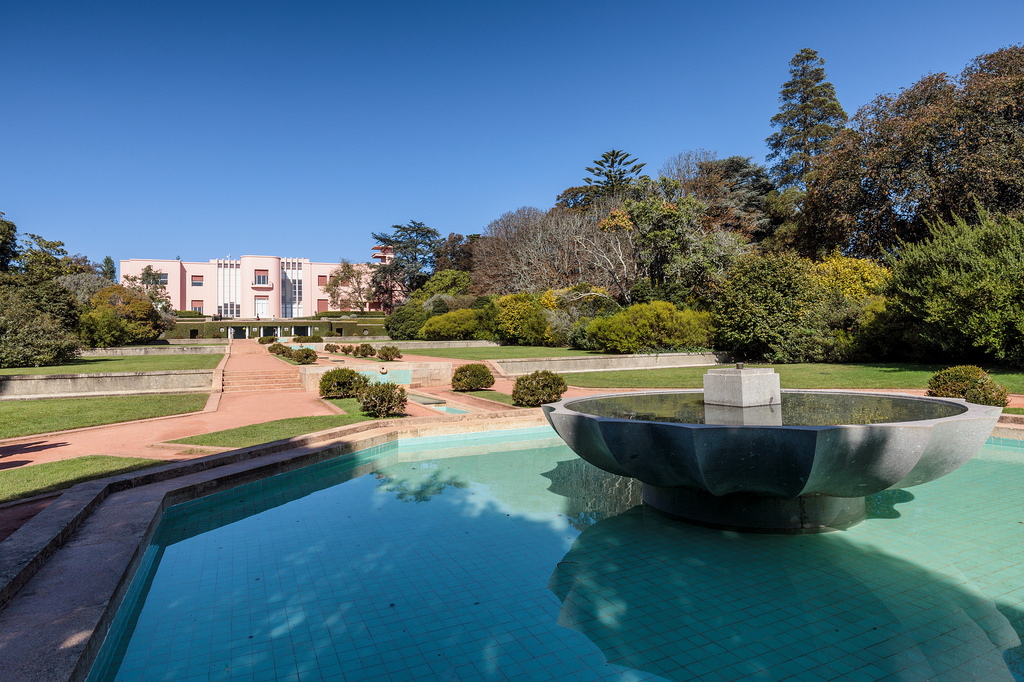serralves: (119, 239, 410, 322)
